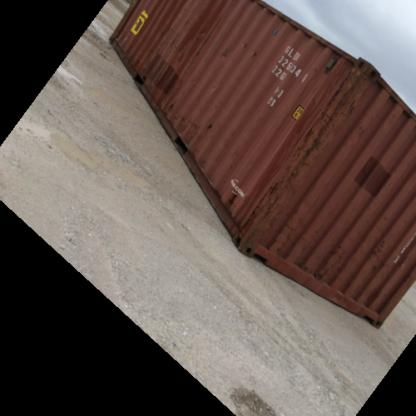Damage: (279, 68, 368, 192), (232, 188, 274, 253), (305, 233, 347, 282), (166, 26, 212, 60), (363, 223, 393, 270), (162, 92, 190, 136), (133, 54, 157, 88), (238, 33, 262, 64), (214, 46, 234, 64), (203, 114, 221, 129)
